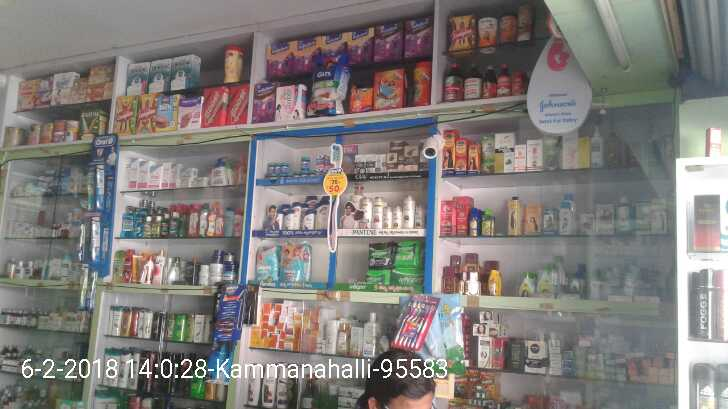beauty: (402, 195, 414, 228), (372, 196, 383, 227), (391, 207, 402, 229), (382, 207, 392, 229)
pharmacy: (280, 239, 314, 285), (254, 244, 280, 281), (395, 241, 423, 270), (367, 242, 393, 267), (266, 162, 289, 174)
